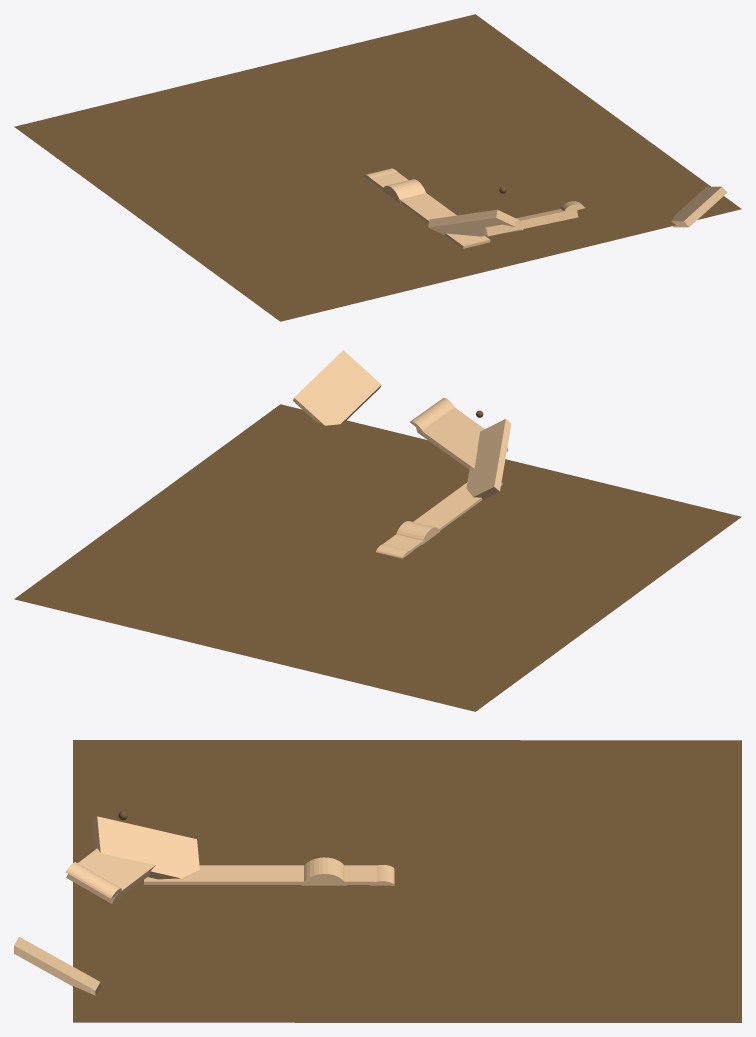
File: testScene.fbx
3 views of the same model, one above another, from view 1: azimuth 30°, elevation 25°; view 2: azimuth 150°, elevation 25°; view 3: azimuth 270°, elevation 25° (orthographic). The views are drawn at different scales.
Visible parts, largest first — view 1: floor_model, ramp_model, wall_model, wall3_model, wall2_model, bump2_model; view 2: floor_model, wall3_model, wall_model, wall2_model, ramp_model, bump3_model, bump2_model; view 3: floor_model, wall_model, ramp_model, wall2_model, wall3_model, bump2_model, bump3_model.
Part boxes in pixels (<box>): floor_model: <box>14,14,741,321</box>; ramp_model: <box>369,172,490,248</box>; wall_model: <box>428,209,523,236</box>; wall3_model: <box>671,186,727,227</box>; wall2_model: <box>483,209,578,236</box>; bump2_model: <box>382,179,425,203</box>; floor_model: <box>14,404,741,711</box>; wall3_model: <box>293,350,381,425</box>; wall_model: <box>466,419,511,500</box>; wall2_model: <box>416,408,508,469</box>; ramp_model: <box>383,482,502,553</box>; bump3_model: <box>410,398,455,433</box>; bump2_model: <box>396,521,439,544</box>; floor_model: <box>73,740,741,1022</box>; wall_model: <box>91,816,199,879</box>; ramp_model: <box>144,865,376,884</box>; wall2_model: <box>66,848,155,903</box>; wall3_model: <box>14,937,100,995</box>; bump2_model: <box>301,857,346,885</box>; bump3_model: <box>66,862,121,898</box>.
Bounding box in the file's own units: 3000 × 444 × 3265.
